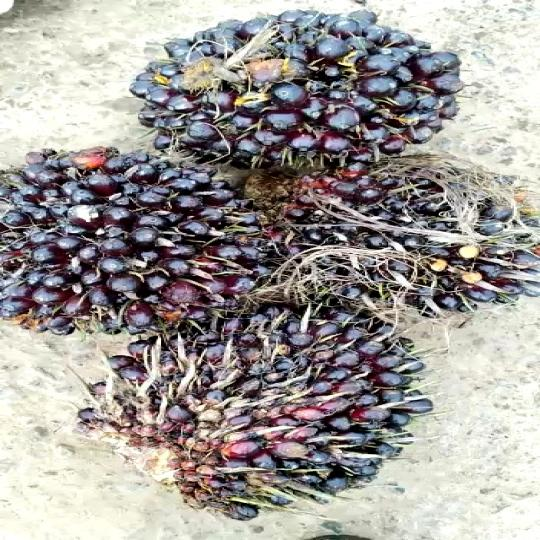mentah: (120, 299, 427, 513), (0, 126, 285, 347), (112, 3, 434, 171), (257, 150, 540, 336)
